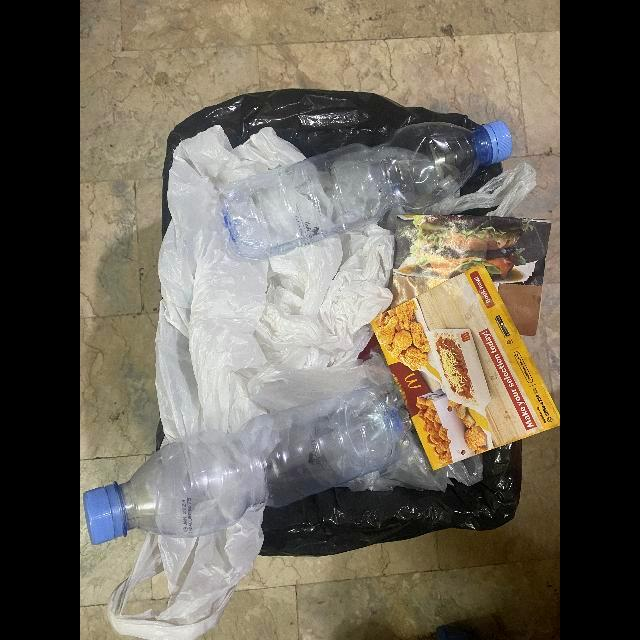paper: (366, 264, 560, 472), (389, 215, 552, 336)
plastic_bag: (106, 125, 483, 640)
plastic_bottle: (83, 386, 412, 546), (218, 120, 513, 260)
